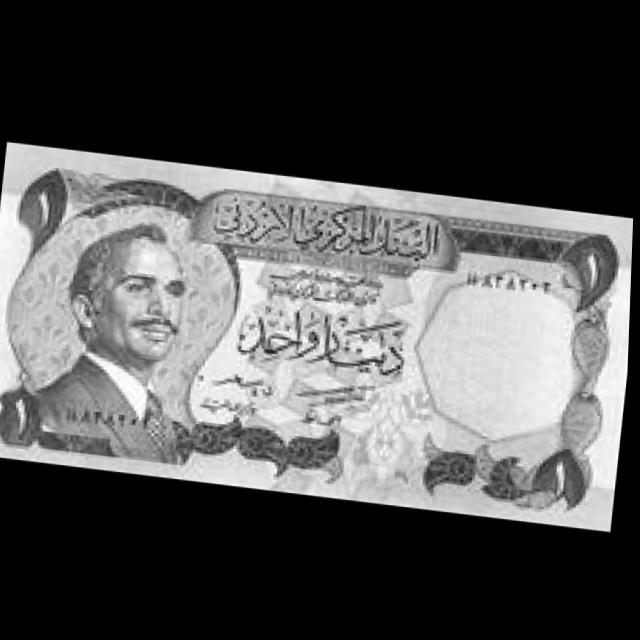banknote: (0, 140, 636, 522)
